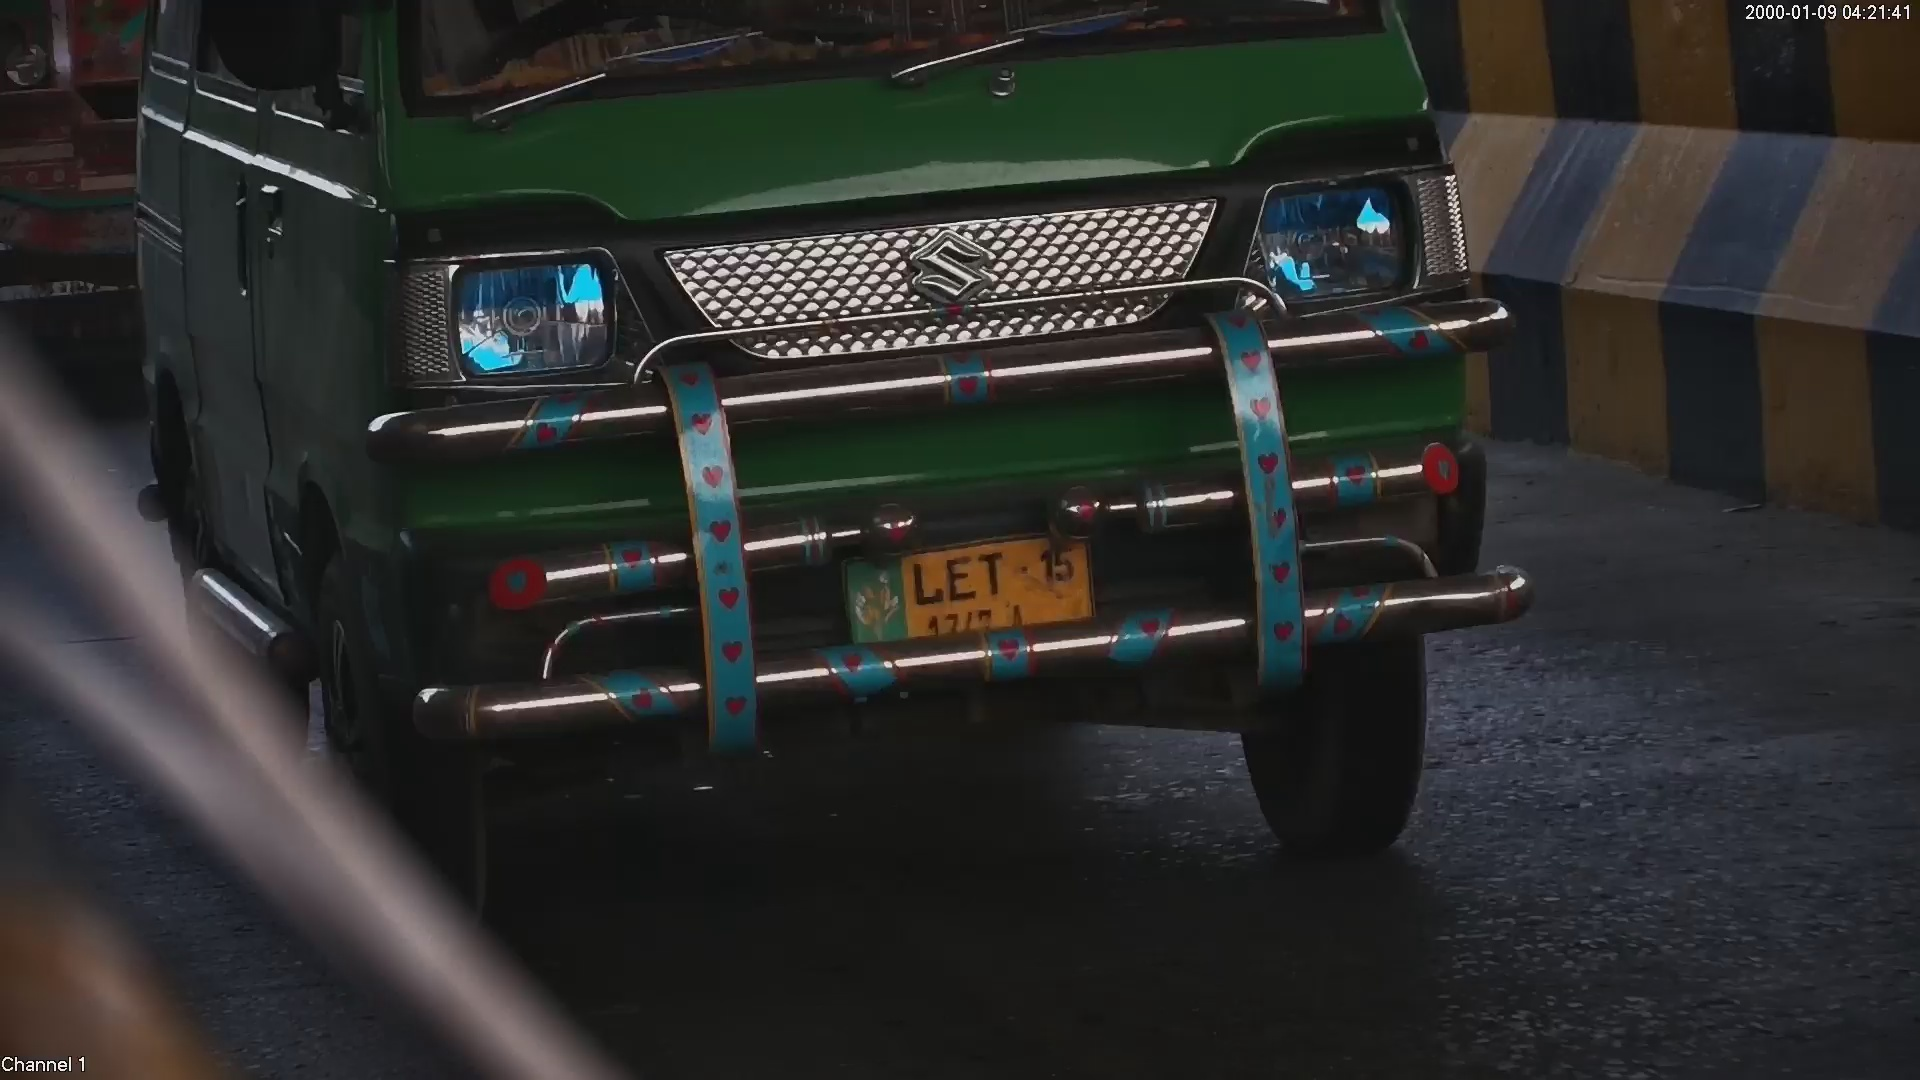Number_Plate: (810, 512, 1126, 675)
Undefined: (354, 231, 658, 416), (1213, 144, 1476, 325), (871, 207, 1013, 329)
